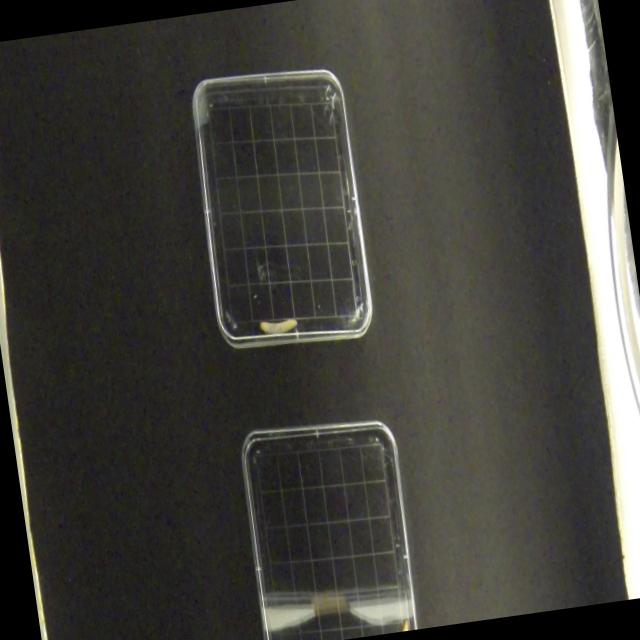larva: (260, 318, 296, 337), (379, 616, 411, 634)
